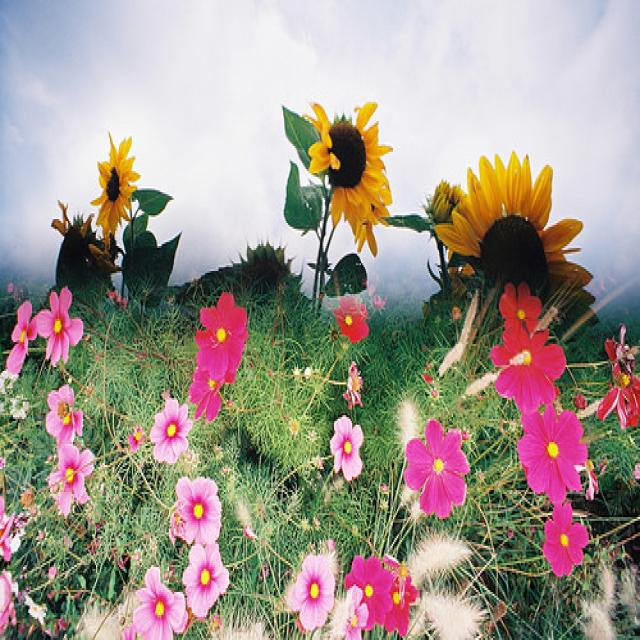sunflower: (434, 144, 598, 331), (307, 92, 396, 264), (88, 127, 142, 242)
